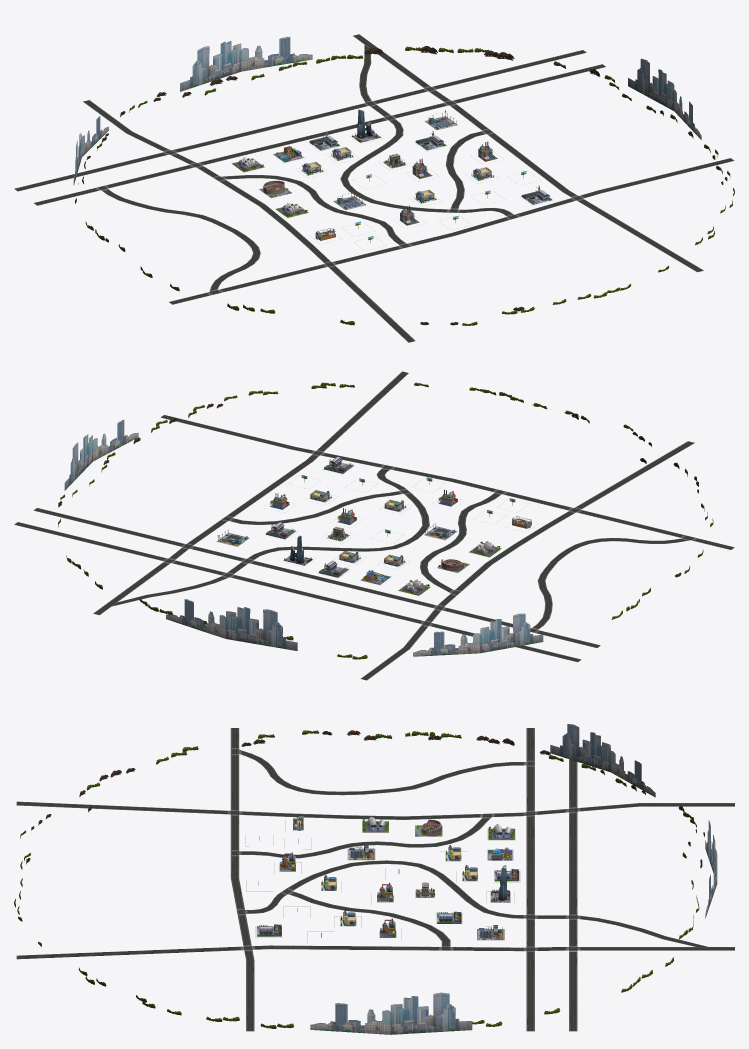
Rendered from dixing.FBX.
The picture shows the model from 3 angles, top to bottom: view 1: azimuth 30°, elevation 25°; view 2: azimuth 150°, elevation 25°; view 3: azimuth 270°, elevation 25°; orthographic projection. The views are drawn at different scales.
Visible parts, largest first — view 1: daolu01, yuanjing02_d, Plane090, Plane067, huoyunjisanzhongxin, chaoshi, shuinichang, fadianzhan, xinigejuyuan; view 2: daolu01, yuanjing02_d, Plane090, huoyunjisanzhongxin, chaoshi, shuinichang, xinigejuyuan, fadianzhan; view 3: daolu01, yuanjing02_d, Plane090, chaoshi, Plane067, huoyunjisanzhongxin, shuinichang, fadianzhan, xinigejuyuan.
Part boxes in pixels (x1,y1,x2,y2): daolu01: (14, 34, 734, 342); yuanjing02_d: (73, 36, 701, 185); Plane090: (82, 46, 734, 325); Plane067: (75, 46, 727, 325); huoyunjisanzhongxin: (309, 131, 552, 204); chaoshi: (301, 147, 494, 203); shuinichang: (399, 141, 497, 225); fadianzhan: (333, 110, 457, 209); xinigejuyuan: (232, 157, 308, 217); daolu01: (14, 371, 734, 680); yuanjing02_d: (64, 419, 543, 656); Plane090: (58, 382, 713, 659); huoyunjisanzhongxin: (266, 457, 353, 577); chaoshi: (309, 490, 406, 566); shuinichang: (270, 489, 457, 524); xinigejuyuan: (398, 541, 501, 595); fadianzhan: (217, 523, 456, 546); daolu01: (16, 728, 734, 1031); yuanjing02_d: (310, 724, 717, 1034); Plane090: (14, 730, 699, 1028); chaoshi: (321, 845, 477, 926); Plane067: (26, 730, 704, 868); huoyunjisanzhongxin: (256, 869, 519, 936); shuinichang: (279, 852, 396, 937); fadianzhan: (348, 844, 504, 940); xinigejuyuan: (362, 816, 514, 839).
Size of the model in its own units: 169187 by 12691 by 168131.
